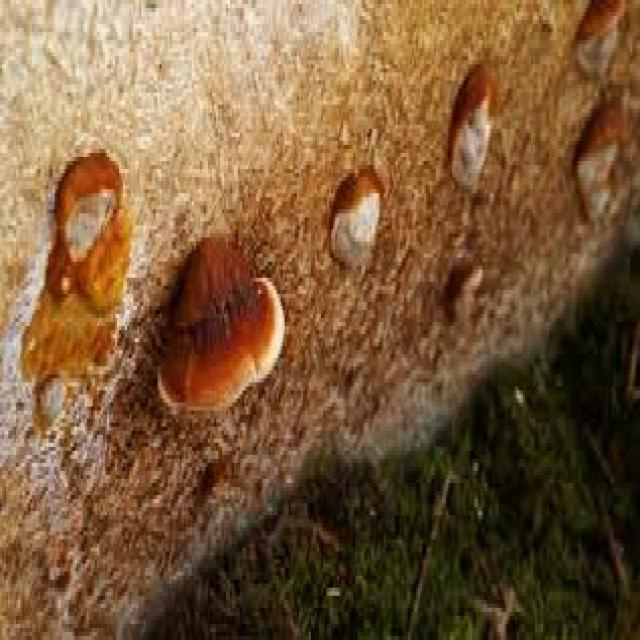Organik: (144, 159, 296, 469), (14, 95, 134, 426), (569, 0, 640, 242), (312, 116, 403, 295), (437, 36, 502, 180), (444, 239, 503, 358)
